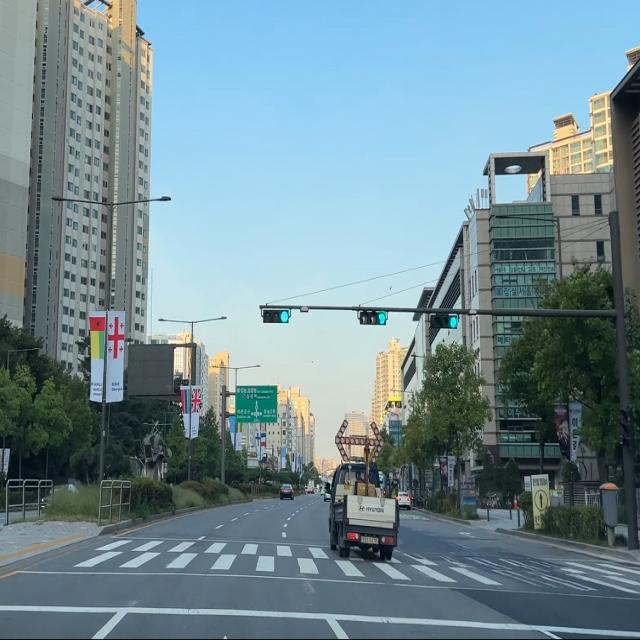Green Light: (378, 312, 388, 326), (448, 314, 457, 328), (280, 310, 289, 323)
